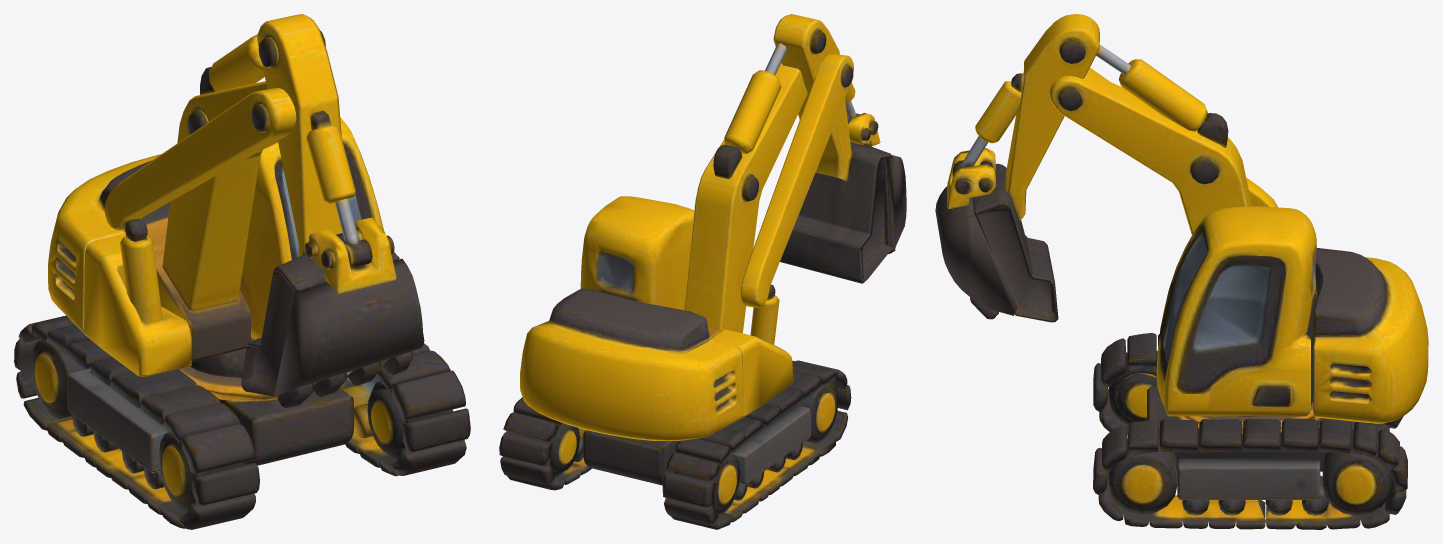
File: digger.glb
The picture shows the model from 3 angles, left to right: view 1: azimuth 30°, elevation 25°; view 2: azimuth 150°, elevation 25°; view 3: azimuth 270°, elevation 25°; orthographic projection. The views are drawn at different scales.
Visible parts, largest first — view 1: prop; view 2: prop; view 3: prop.
Boxes of the visible parts, box(x1,y1,x2,y2) form: prop: box(14, 14, 470, 529); prop: box(499, 14, 906, 529); prop: box(935, 14, 1428, 529).
Bounding box in the file's own units: 0.5487 × 1 × 1.03.
1 material, 1 textured.
